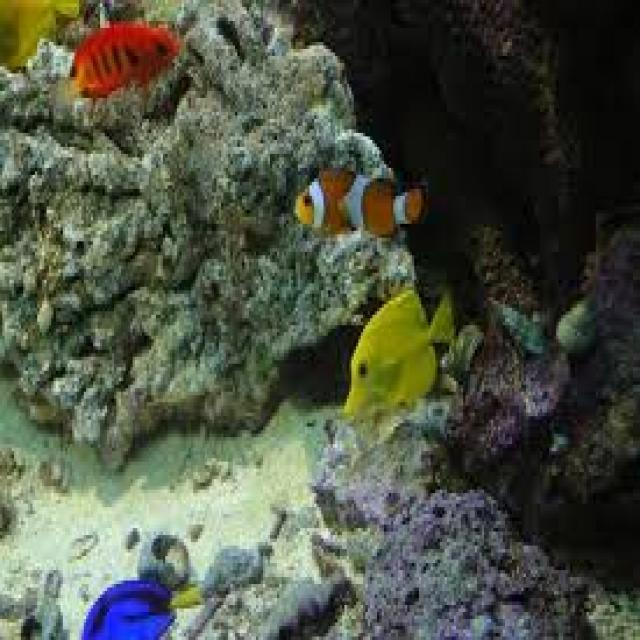YellowTang: (333, 279, 466, 433)
